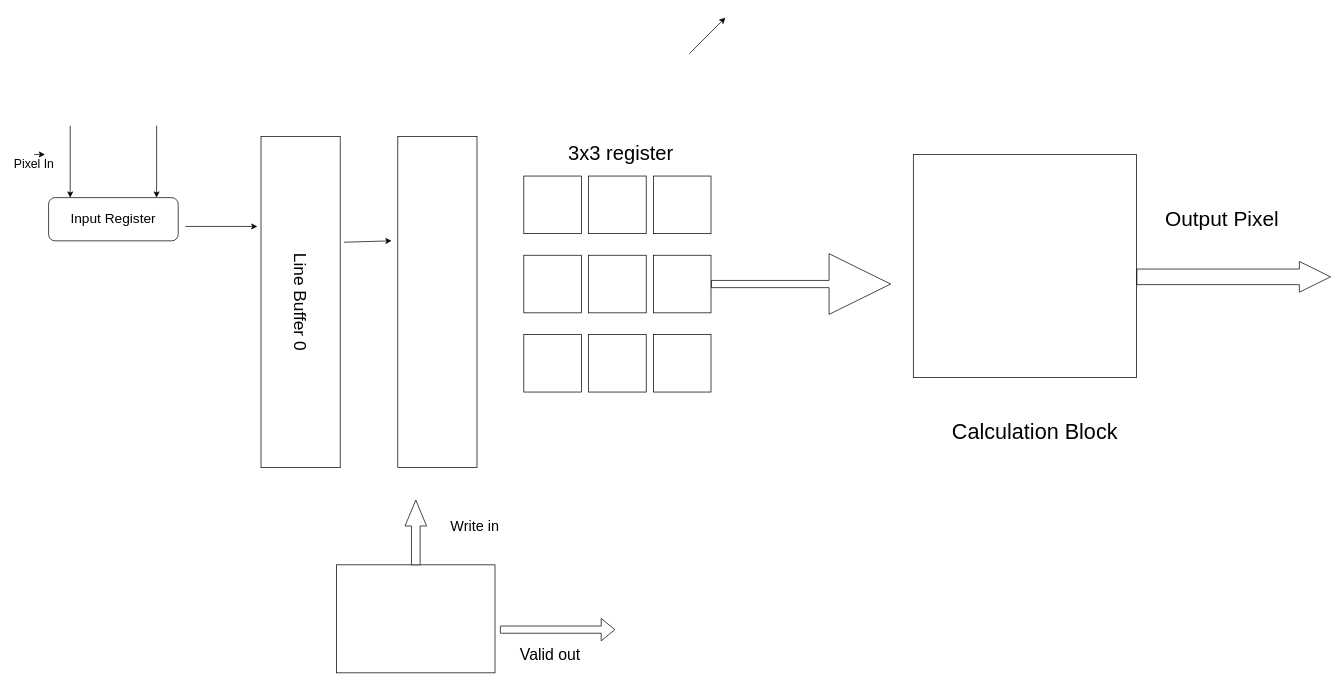
Image size: 1343x685. Some labels were removed from this diagram. Here are the shapes that lost their labels. From the top down, the box of each, then its label:
(397, 136, 477, 468): Line Buffer 1
(336, 564, 495, 673): Control Box
